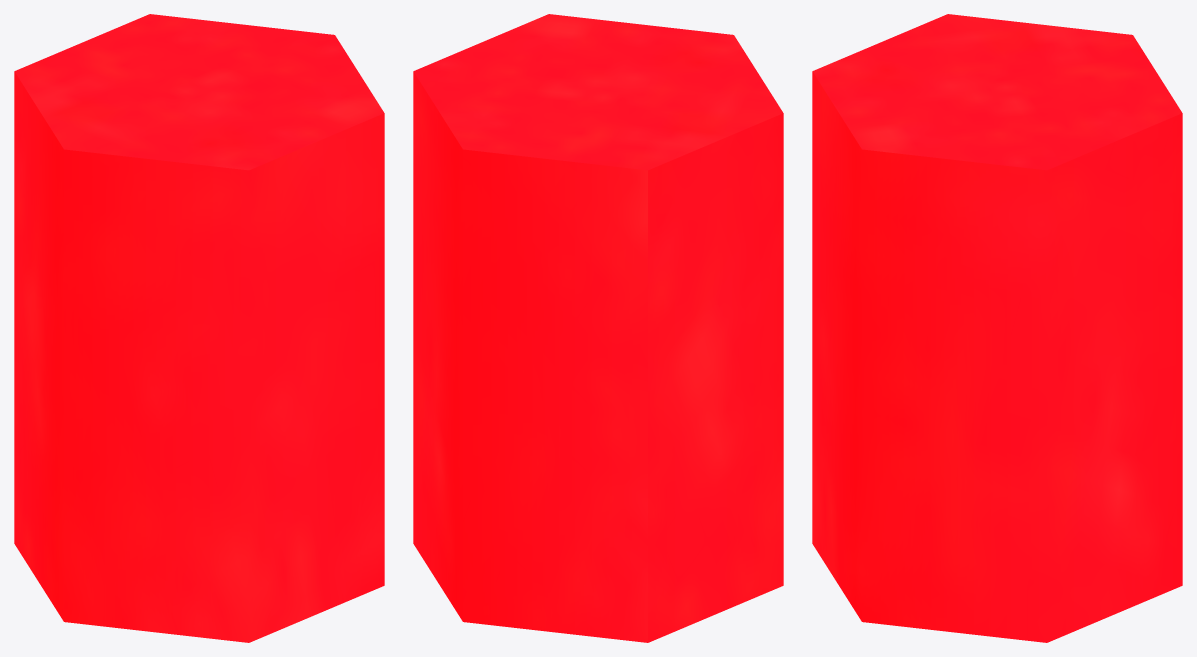
The model's file is windsock-light-cbj_LOD04.gltf.
3 views of the same model, side by side, from view 1: azimuth 30°, elevation 25°; view 2: azimuth 150°, elevation 25°; view 3: azimuth 270°, elevation 25° (orthographic).
Visible parts, largest first — view 1: Cube.003; view 2: Cube.003; view 3: Cube.003.
Part boxes in pixels (x1,y1,x2,y2): Cube.003: [14, 14, 384, 642]; Cube.003: [413, 14, 783, 642]; Cube.003: [812, 14, 1182, 642].
Size of what is drawn, in the model's own units: 0.7985 by 1.12 by 0.7985.
